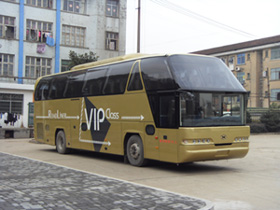bigcar: (24, 49, 252, 171)
